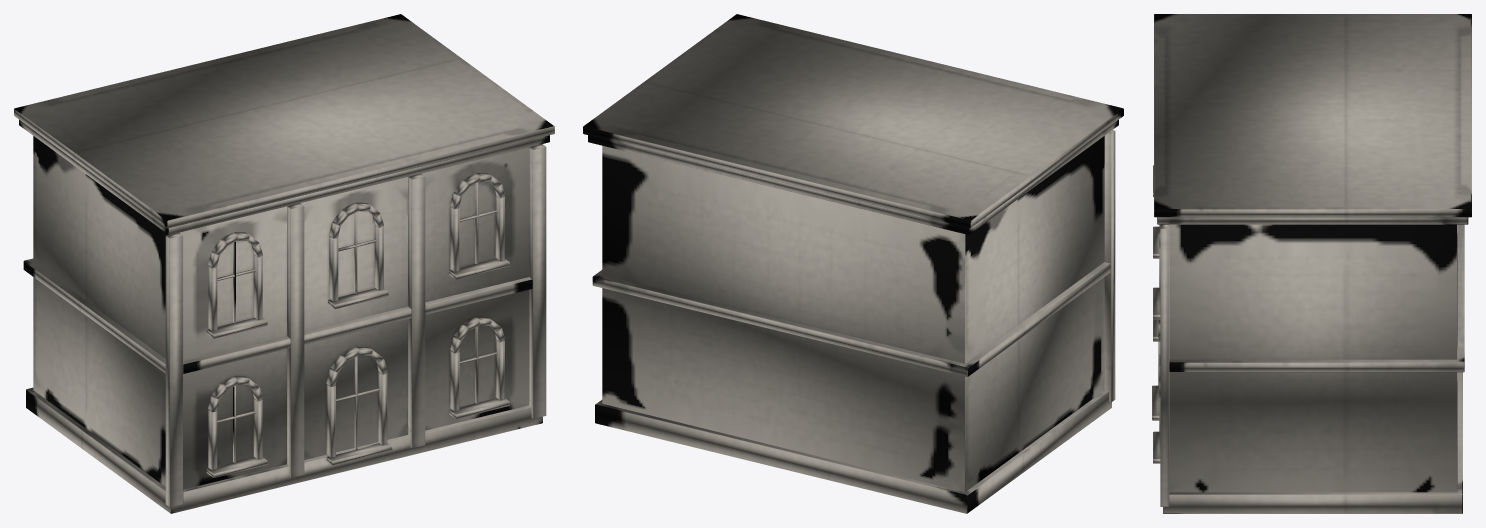
File: Edificio_Viejo.fbx
The picture shows the model from 3 angles, left to right: view 1: azimuth 30°, elevation 25°; view 2: azimuth 150°, elevation 25°; view 3: azimuth 270°, elevation 25°; orthographic projection. The views are drawn at different scales.
Visible parts, largest first — view 1: Edificio_Viejo; view 2: Edificio_Viejo; view 3: Edificio_Viejo.
Part boxes in pixels (box(x1,y1,x2,y2)): Edificio_Viejo: box(14, 14, 554, 513); Edificio_Viejo: box(583, 14, 1123, 513); Edificio_Viejo: box(1152, 14, 1471, 513).
Bounding box in the file's own units: 25.6 × 18.85 × 17.7.
